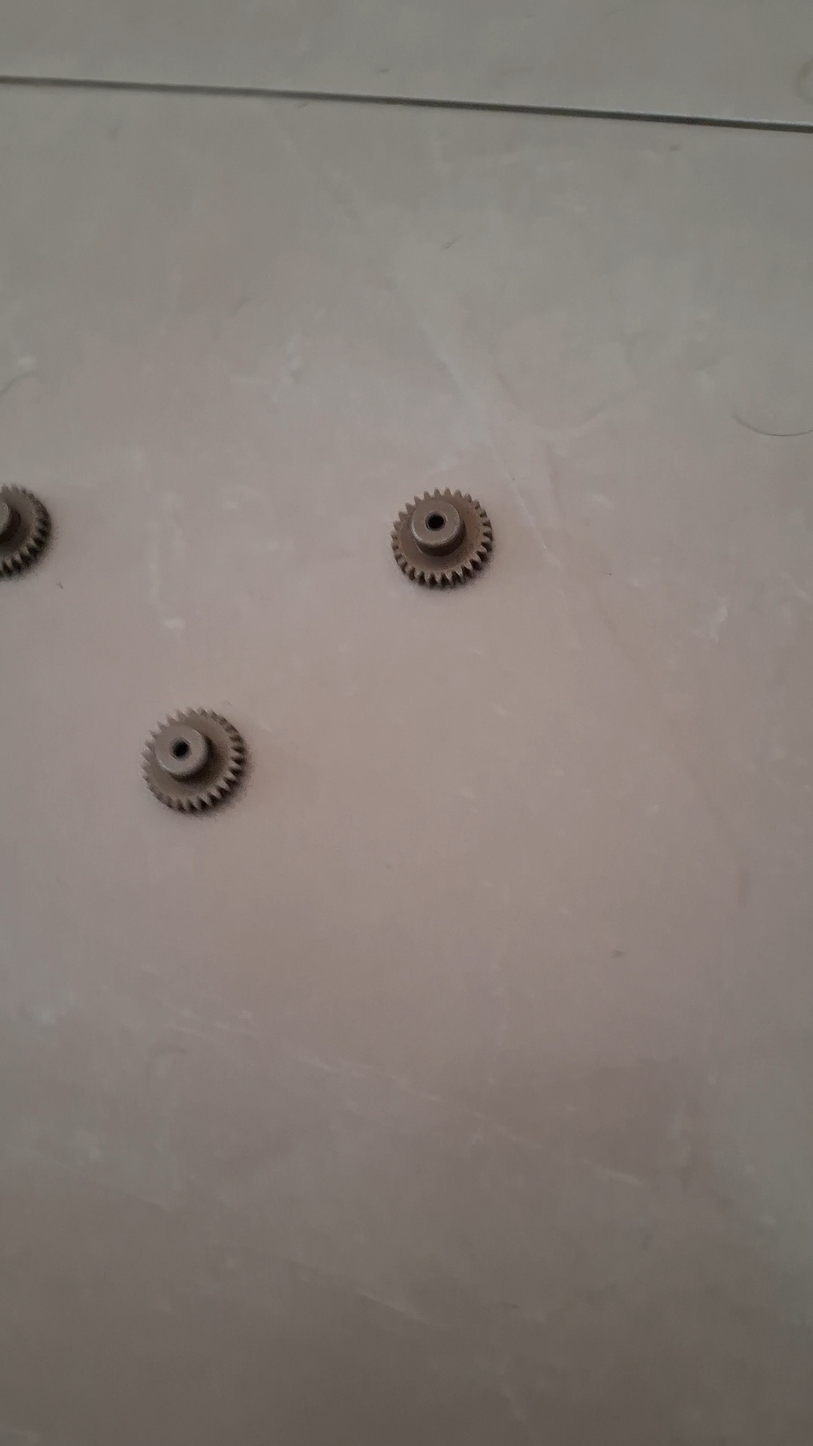spur gear: (143, 710, 246, 812), (391, 490, 493, 586), (0, 485, 50, 575)
